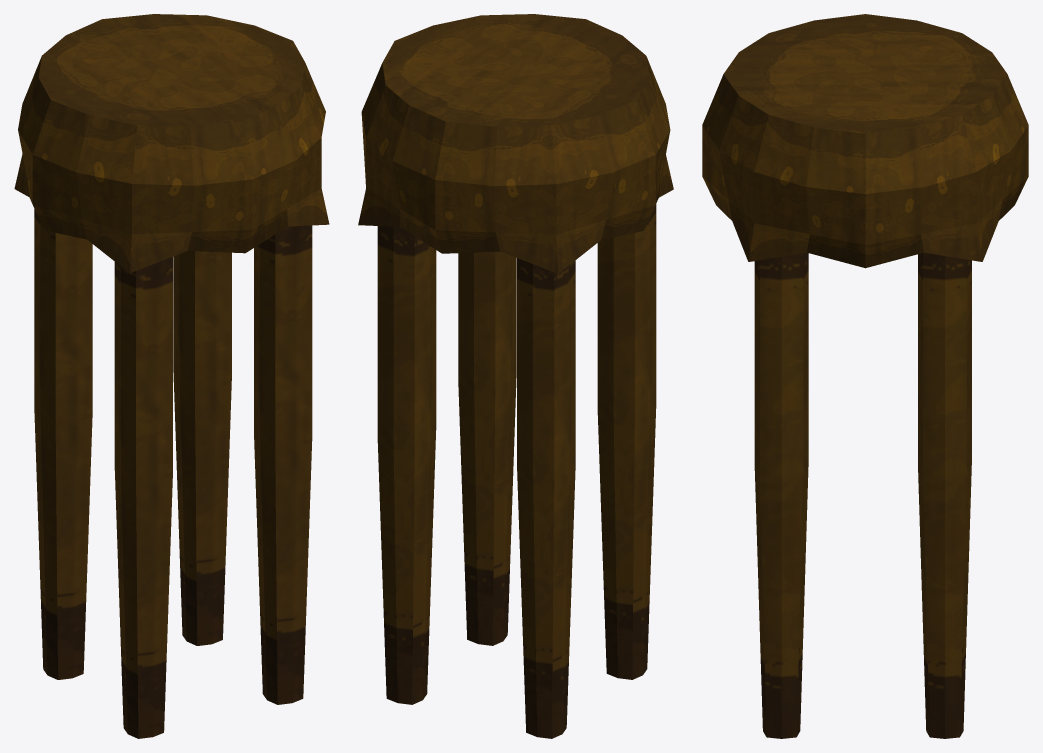
Rendered from high_chair_circle.fbx.
3 renders of one model, left to right at view 1: azimuth 30°, elevation 25°; view 2: azimuth 150°, elevation 25°; view 3: azimuth 270°, elevation 25°, orthographic.
Parts seen in each view (by area): view 1: Cube.002; view 2: Cube.002; view 3: Cube.002.
Part boxes in pixels (x1=…): Cube.002: x1=14, y1=14, x2=329, y2=738; Cube.002: x1=358, y1=14, x2=673, y2=738; Cube.002: x1=702, y1=14, x2=1028, y2=738.
Size of the model in its own units: 200 by 421 by 200.
